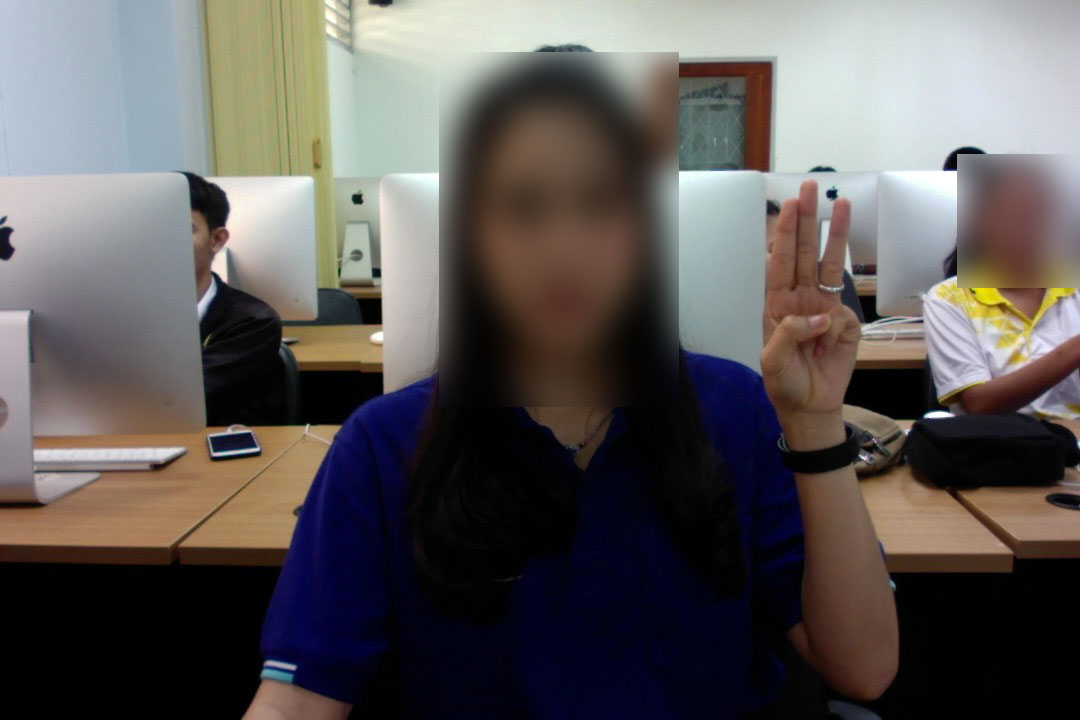wor: (741, 171, 884, 429)
